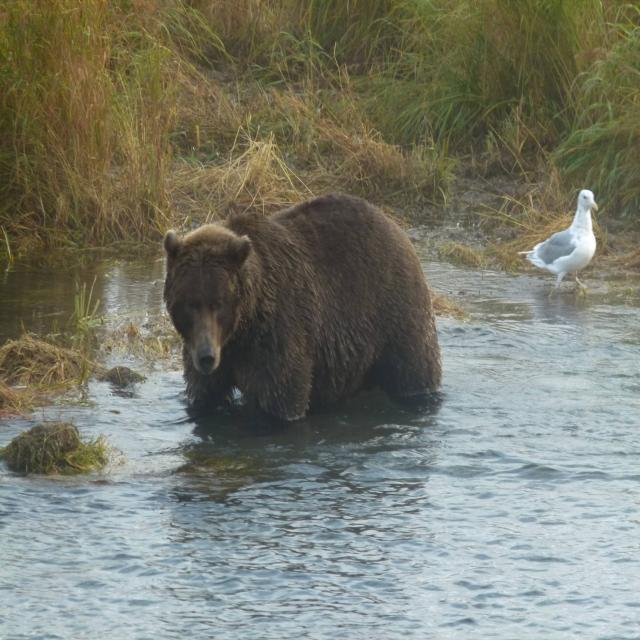bear face: (162, 199, 443, 420)
